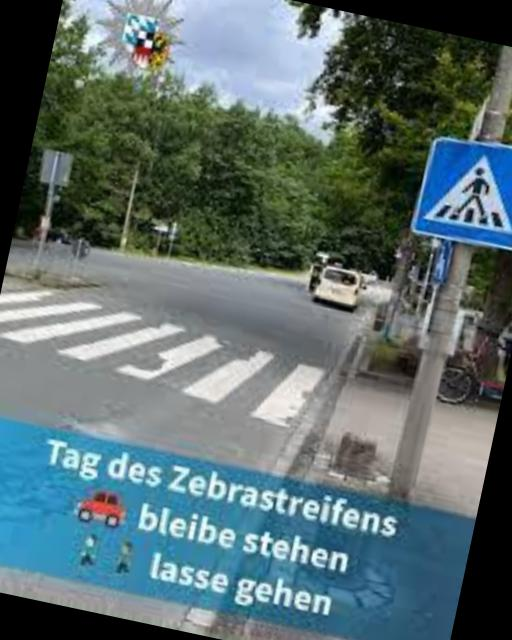crosswalk-sign: (408, 122, 512, 256)
